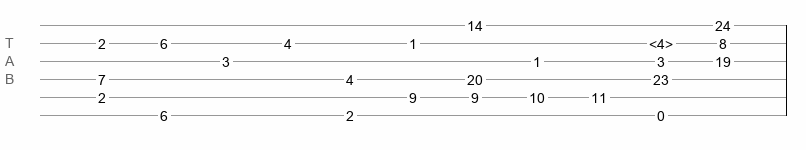0: (657, 108, 665, 118)
1: (409, 36, 417, 46), (533, 54, 541, 64)
10: (529, 90, 545, 100)
11: (591, 90, 607, 100)
14: (467, 18, 483, 28)
19: (715, 54, 731, 64)
2: (98, 90, 106, 100), (98, 36, 106, 46), (346, 108, 354, 118)
20: (467, 72, 483, 82)
23: (653, 72, 669, 82)
24: (715, 18, 731, 28)
3: (222, 54, 230, 64), (657, 54, 665, 64)
4: (284, 36, 292, 46), (346, 72, 354, 82)
6: (160, 108, 168, 118), (160, 36, 168, 46)
7: (98, 72, 106, 82)
8: (719, 36, 727, 46)
9: (409, 90, 417, 100), (471, 90, 479, 100)
harmonic: (649, 36, 673, 46)
